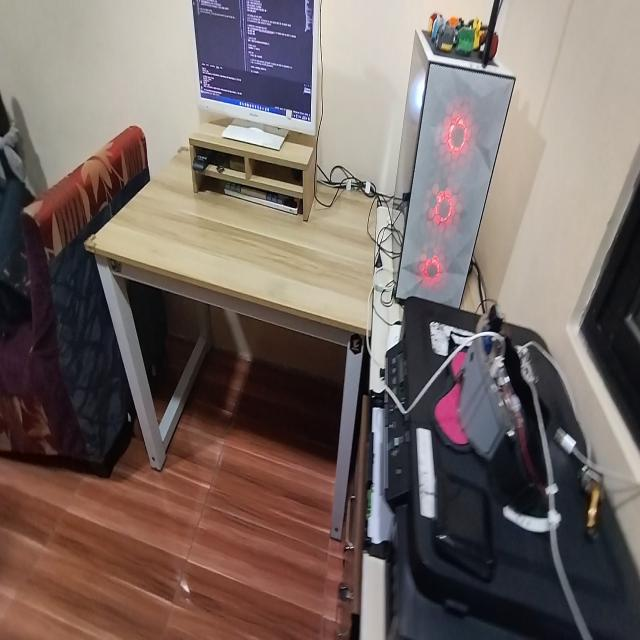table: (94, 128, 377, 530)
